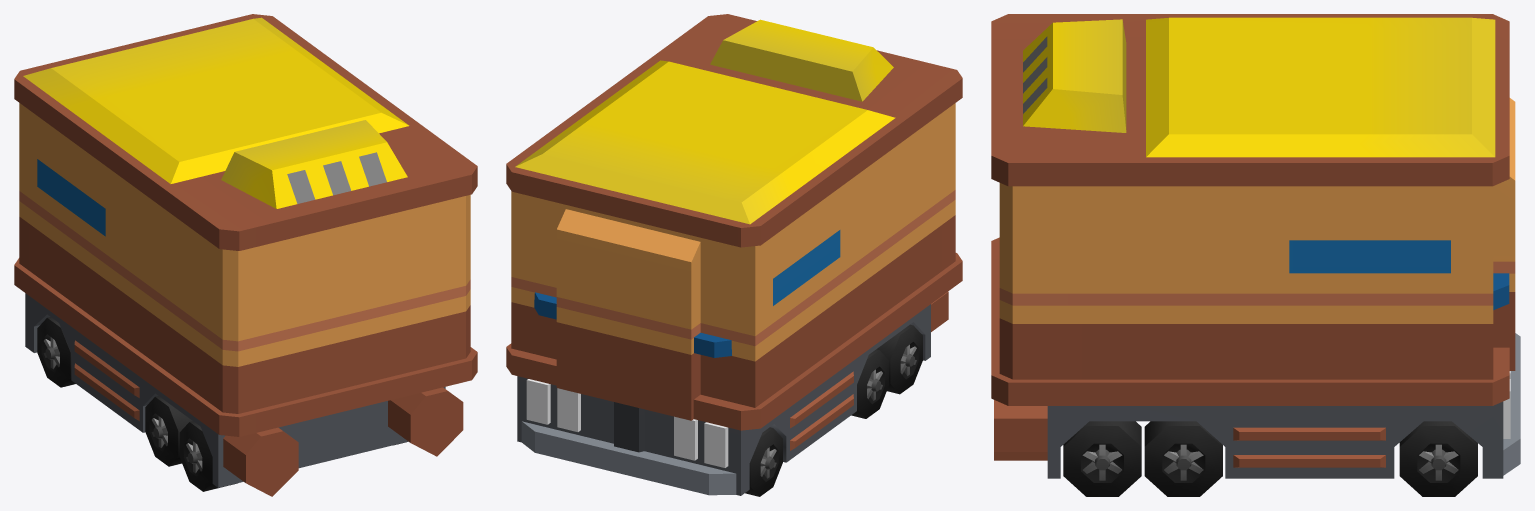
Rendered from cargo_03_B_2.fbx.
3 views of the same model, side by side, from view 1: azimuth 30°, elevation 25°; view 2: azimuth 150°, elevation 25°; view 3: azimuth 270°, elevation 25° (orthographic). The views are drawn at different scales.
Parts seen in each view (by area): view 1: cargo_03_B_2; view 2: cargo_03_B_2; view 3: cargo_03_B_2.
Part boxes in pixels (left/top/right/bottom): cargo_03_B_2: left=14, top=14, right=477, bottom=496; cargo_03_B_2: left=506, top=14, right=962, bottom=496; cargo_03_B_2: left=991, top=14, right=1520, bottom=496.
Bounding box in the file's own units: 14.09 × 16.59 × 21.15.
